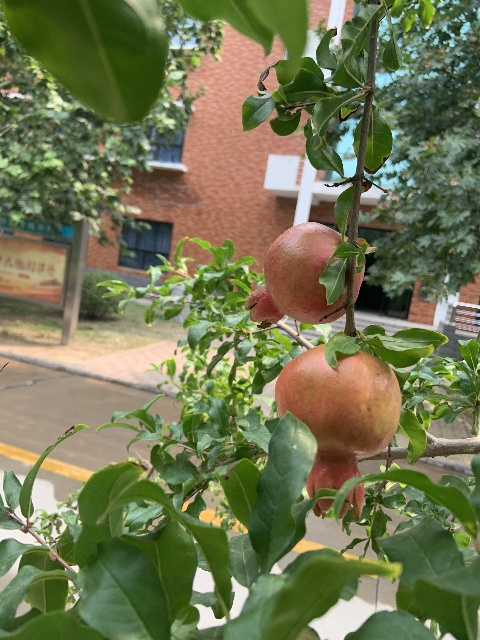ripe: (275, 345, 402, 520), (245, 222, 363, 327)
